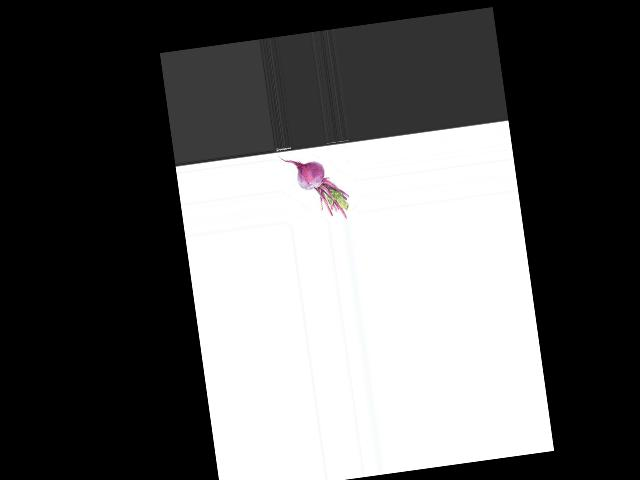beet: (278, 147, 352, 227)
